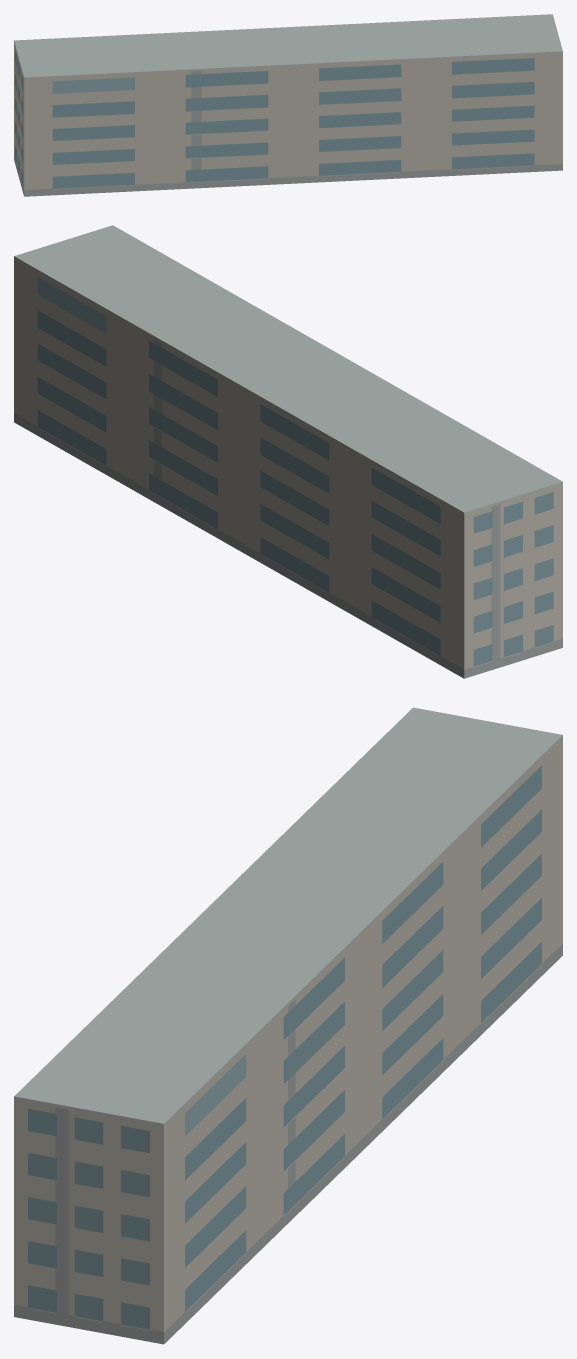
File: residential-e7ba5389-636d-46f0-8830-1253d6ac6e61.glb
3 renders of one model, top to bottom at view 1: azimuth 30°, elevation 25°; view 2: azimuth 150°, elevation 25°; view 3: azimuth 270°, elevation 25°, orthographic. The views are drawn at different scales.
Parts seen in each view (by area): view 1: residential-e7ba5389-636d-46f0-8830-1253d6ac6e61.tmp; view 2: residential-e7ba5389-636d-46f0-8830-1253d6ac6e61.tmp; view 3: residential-e7ba5389-636d-46f0-8830-1253d6ac6e61.tmp.
Part boxes in pixels (x1,y1,x2,y2): residential-e7ba5389-636d-46f0-8830-1253d6ac6e61.tmp: (14,14,562,196); residential-e7ba5389-636d-46f0-8830-1253d6ac6e61.tmp: (14,225,562,678); residential-e7ba5389-636d-46f0-8830-1253d6ac6e61.tmp: (14,707,562,1344).
Size of the model in its own units: 61.74 by 15.25 by 34.4.
